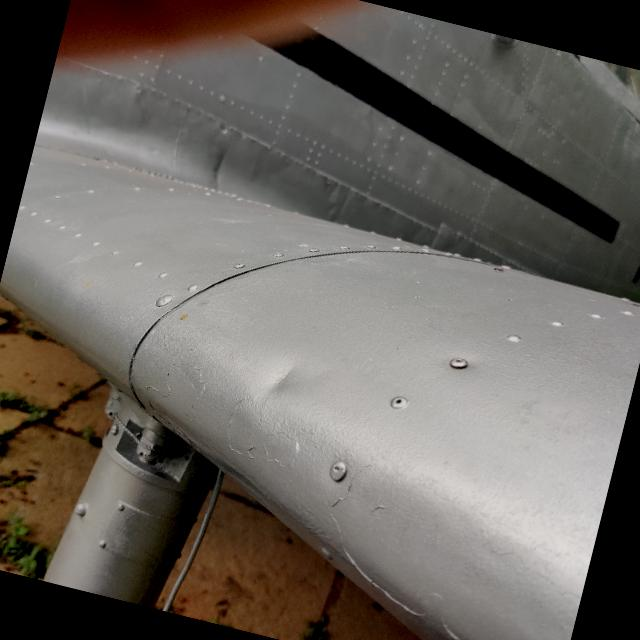dent: (246, 348, 324, 417)
